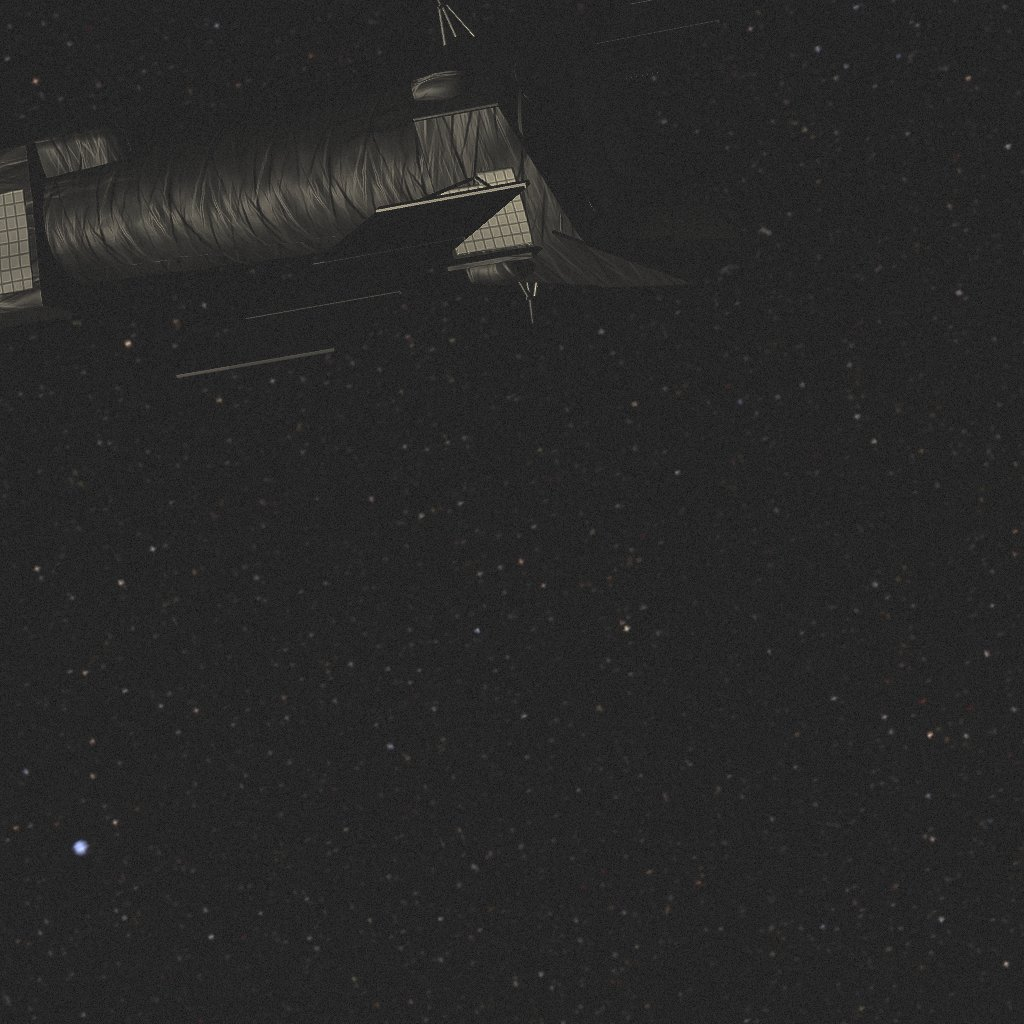xmm_newton: (0, 0, 746, 378)
